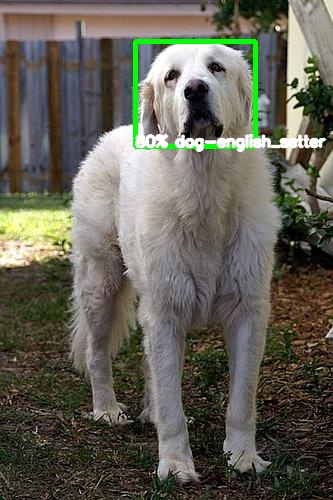dog-great_pyrenees: (141, 40, 255, 150)
